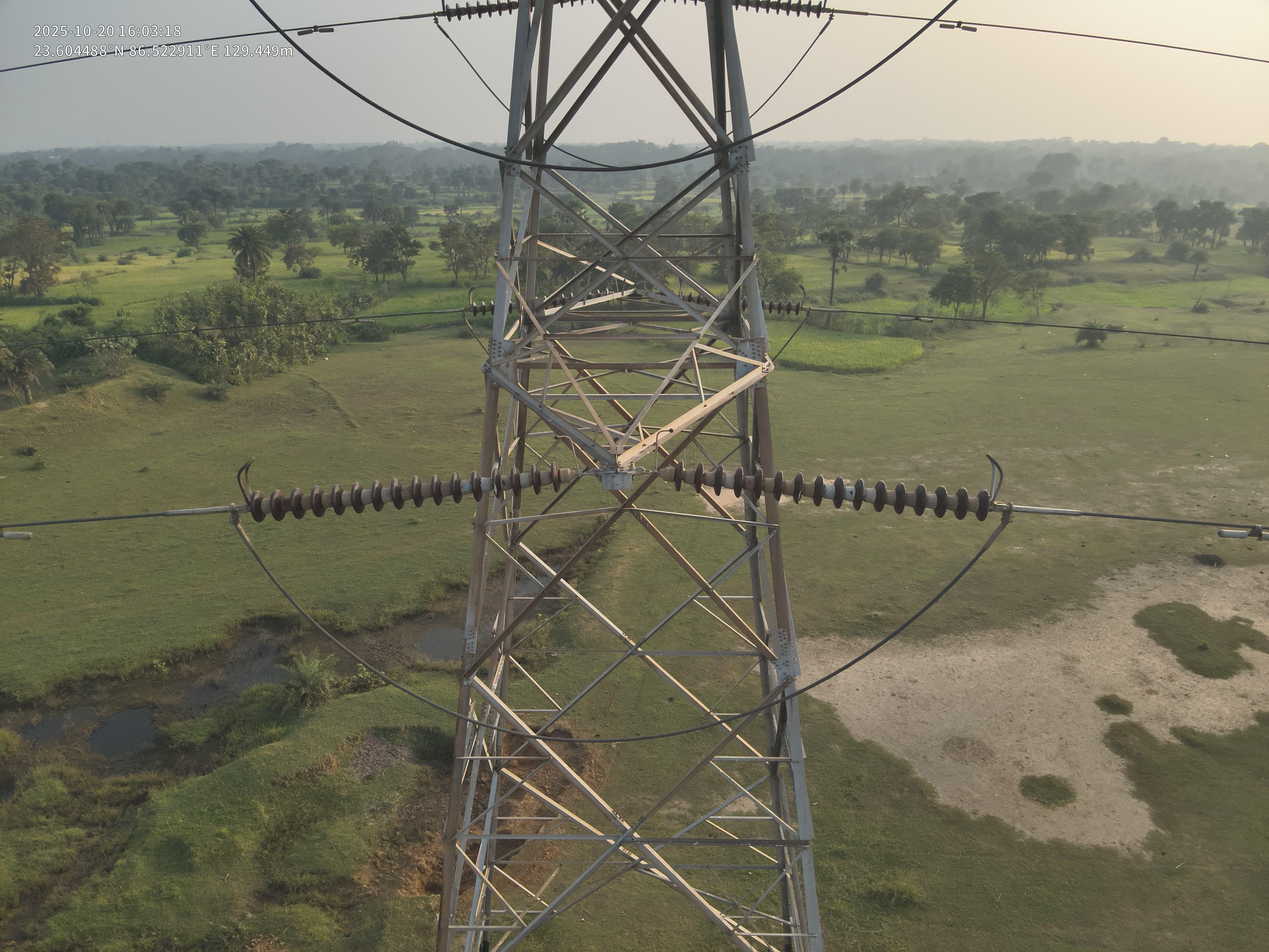broken_insulator: (489, 463, 506, 499), (771, 468, 786, 504), (792, 468, 805, 504)
